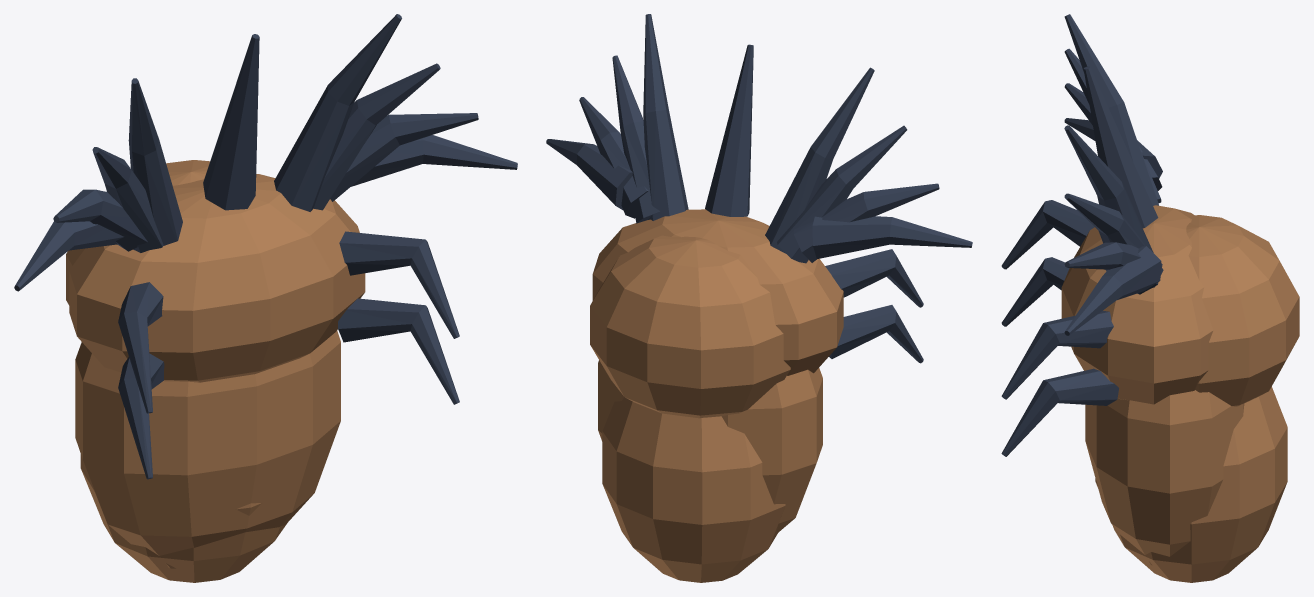
File: gorehulk_e_body.obj
3 renders of one model, left to right at view 1: azimuth 30°, elevation 25°; view 2: azimuth 150°, elevation 25°; view 3: azimuth 270°, elevation 25°, orthographic. The views are drawn at different scales.
Visible parts, largest first — view 1: gorehulk_e_body; view 2: gorehulk_e_body; view 3: gorehulk_e_body.
Part boxes in pixels (<box>): gorehulk_e_body: <box>14,14,517,582</box>; gorehulk_e_body: <box>546,14,972,582</box>; gorehulk_e_body: <box>1001,14,1299,582</box>.
Bounding box in the file's own units: 1.28 × 1.42 × 0.755.
